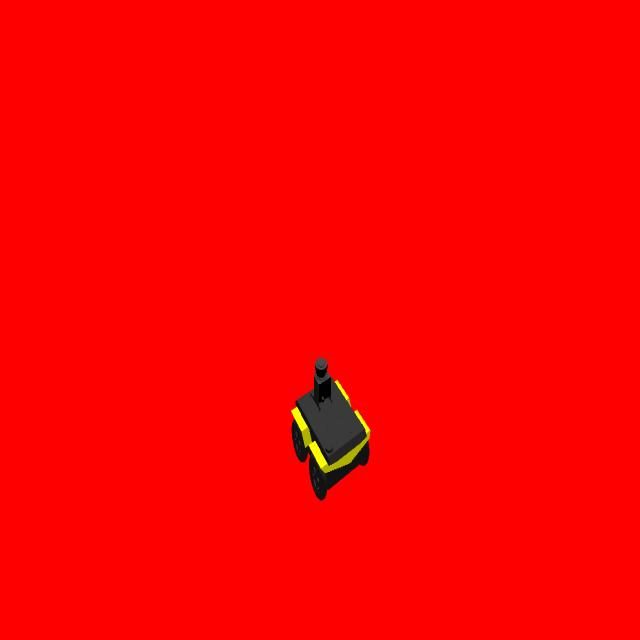jackal: (290, 351, 371, 503)
